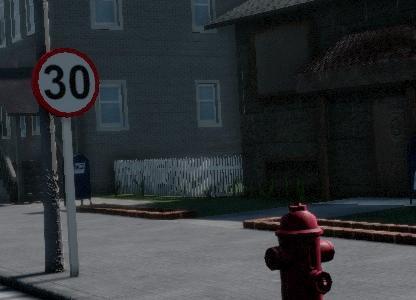Speed_30: (148, 24, 232, 103)
